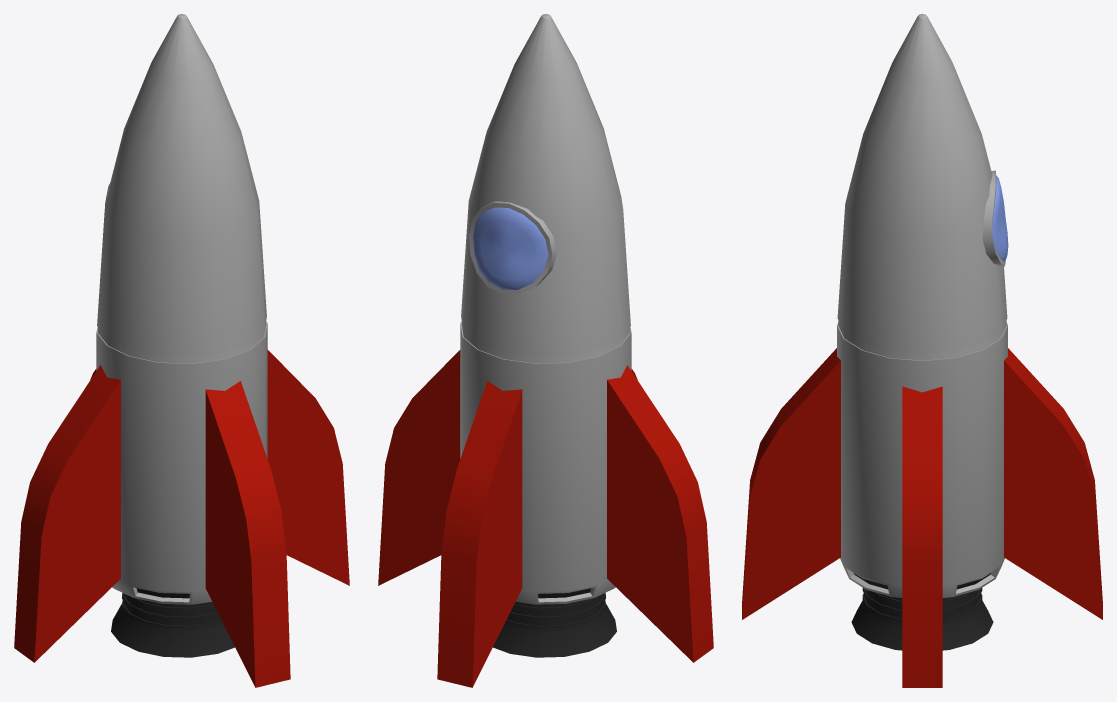
The model's file is RocketMark1.fbx.
3 renders of one model, left to right at view 1: azimuth 30°, elevation 25°; view 2: azimuth 150°, elevation 25°; view 3: azimuth 270°, elevation 25°, orthographic.
Parts seen in each view (by area): view 1: Cylinder, Cube; view 2: Cylinder, Cube, Sphere; view 3: Cylinder, Cube, Sphere.
Part boxes in pixels (<box>): Cylinder: <box>96,14,267,657</box>; Cube: <box>14,350,349,687</box>; Cylinder: <box>460,14,631,657</box>; Cube: <box>378,350,713,687</box>; Sphere: <box>469,201,556,294</box>; Cylinder: <box>837,14,1007,650</box>; Cube: <box>742,348,1102,687</box>; Sphere: <box>982,170,1008,266</box>.
Bounding box in the file's own units: 150 × 278 × 150.
